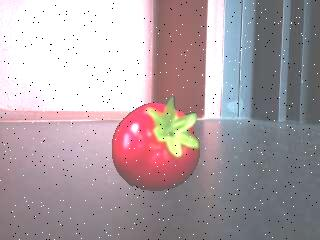Tomato: (110, 97, 202, 192)
